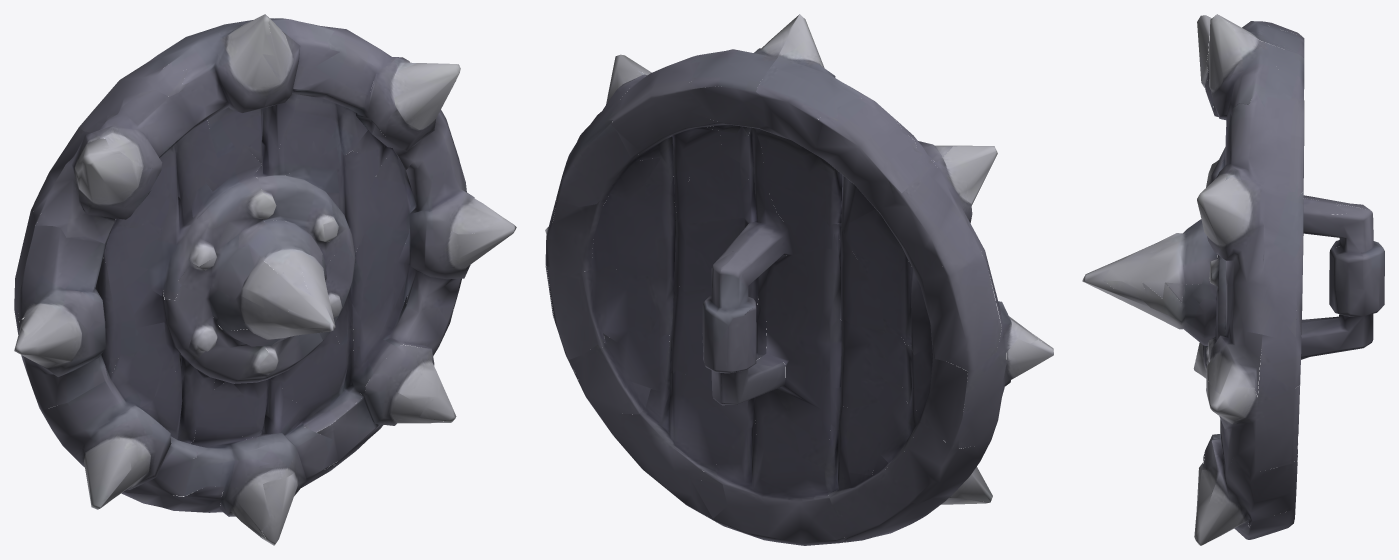
Rendered from Arm_spike_shield-CsSDhE1l.glb.
3 views of the same model, side by side, from view 1: azimuth 30°, elevation 25°; view 2: azimuth 150°, elevation 25°; view 3: azimuth 270°, elevation 25° (orthographic).
Visible parts, largest first — view 1: Arm_spike_shield; view 2: Arm_spike_shield; view 3: Arm_spike_shield.
Boxes of the visible parts, bbox=[...] form: Arm_spike_shield: bbox=[14, 14, 516, 545]; Arm_spike_shield: bbox=[545, 14, 1053, 545]; Arm_spike_shield: bbox=[1082, 14, 1384, 545].
Size of the model in its own units: 0.9509 by 0.95 by 0.497.
Materials: 1 (1 with a texture image).
